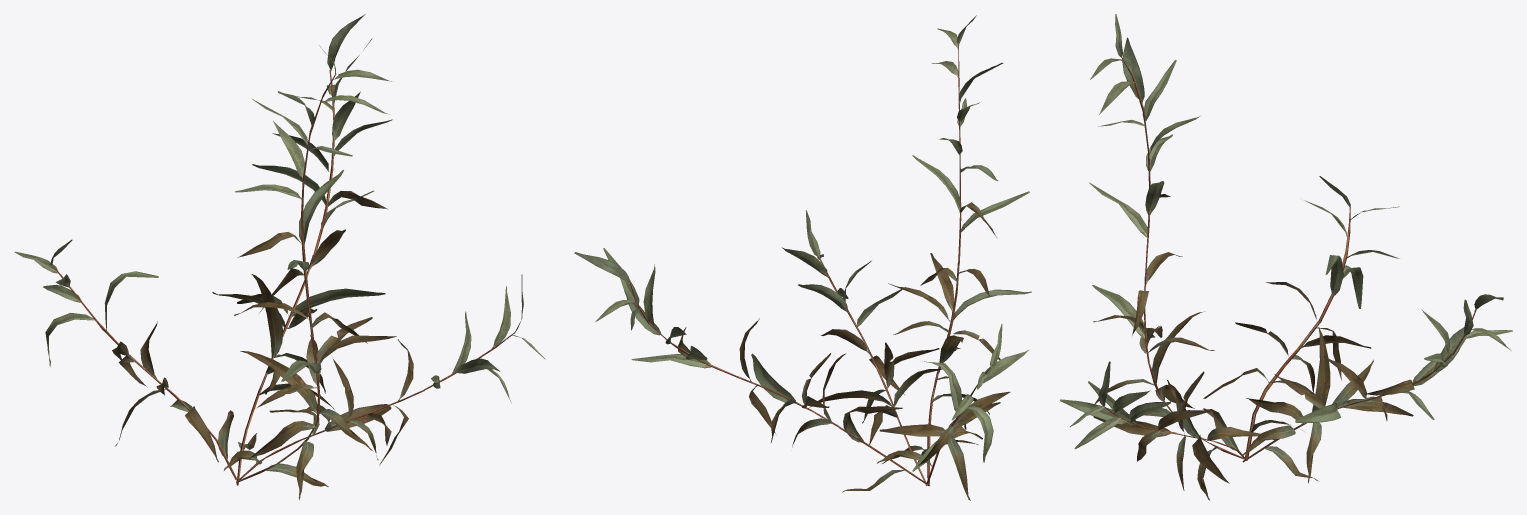
Rendered from shrub_a.glb.
3 views of the same model, side by side, from view 1: azimuth 30°, elevation 25°; view 2: azimuth 150°, elevation 25°; view 3: azimuth 270°, elevation 25° (orthographic). The views are drawn at different scales.
Parts seen in each view (by area): view 1: shrub_a; view 2: shrub_a; view 3: shrub_a.
Part boxes in pixels (x1,y1,x2,y2): shrub_a: (14,14,545,500); shrub_a: (574,15,1031,500); shrub_a: (1060,14,1512,500).
Bounding box in the file's own units: 0.9175 × 1.05 × 0.9379.
Materials: 1 (1 with a texture image).
